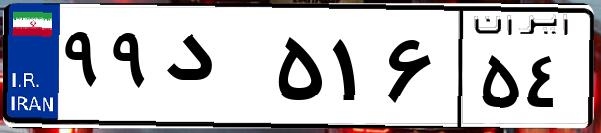1: (330, 28, 385, 110)
4: (525, 38, 570, 115)
5: (270, 28, 330, 110), (475, 38, 525, 113)
6: (385, 28, 445, 110)
9: (57, 26, 110, 100), (110, 28, 158, 98)
د: (158, 20, 270, 120)
